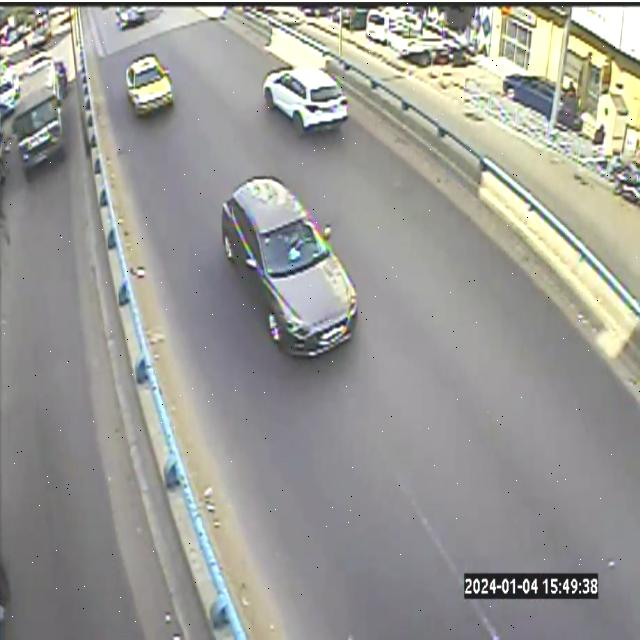car: (221, 177, 358, 357), (262, 66, 348, 134), (126, 55, 173, 115), (117, 7, 145, 30)
